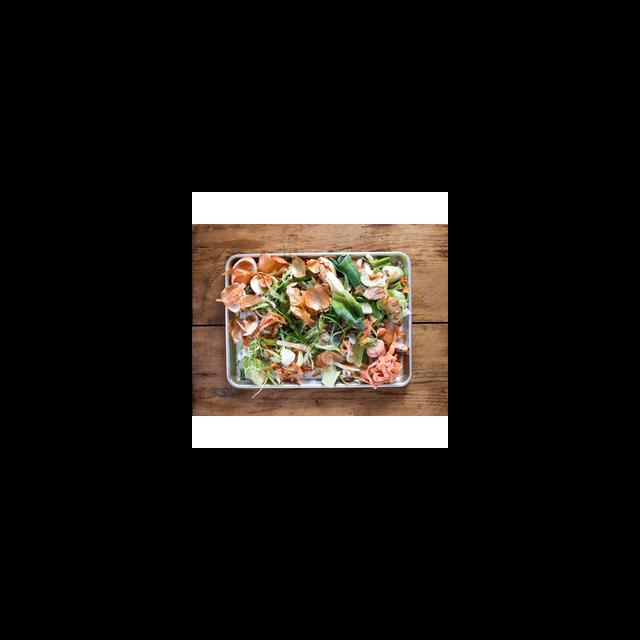food_waste: (285, 266, 356, 342), (234, 323, 295, 357), (337, 259, 387, 299), (369, 325, 403, 382), (229, 260, 272, 302), (250, 250, 289, 277)
